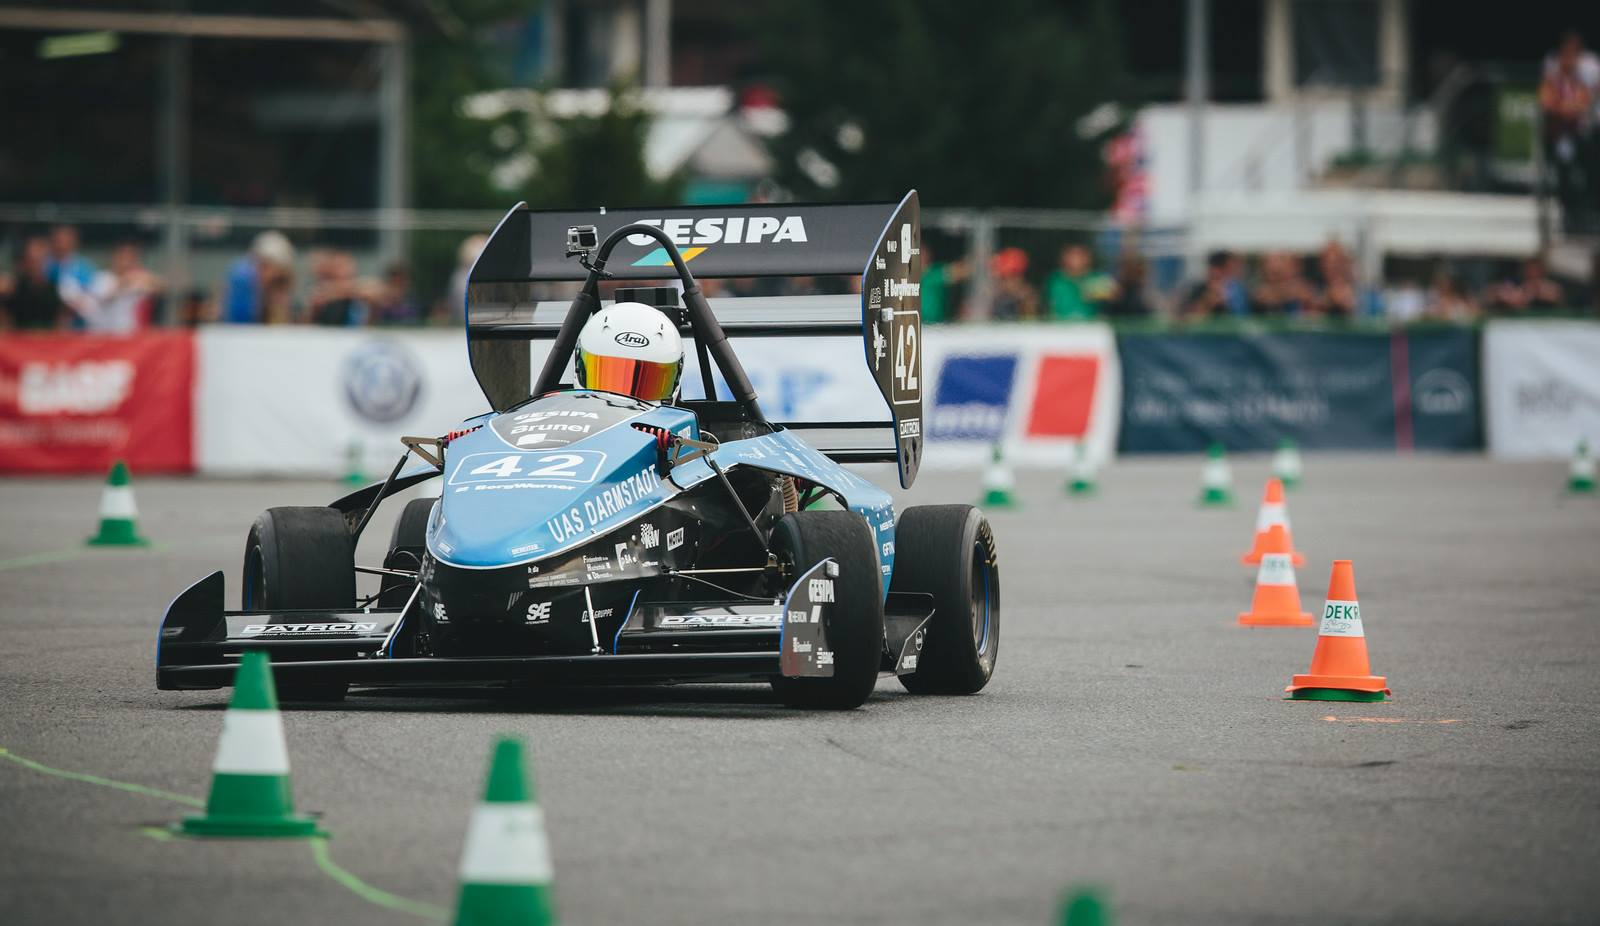cone: (162, 644, 337, 847), (413, 735, 571, 926), (1283, 553, 1398, 701), (1234, 523, 1322, 629), (77, 450, 156, 559), (1231, 474, 1313, 568), (965, 432, 1028, 512), (1050, 438, 1107, 498), (1559, 438, 1600, 487)
